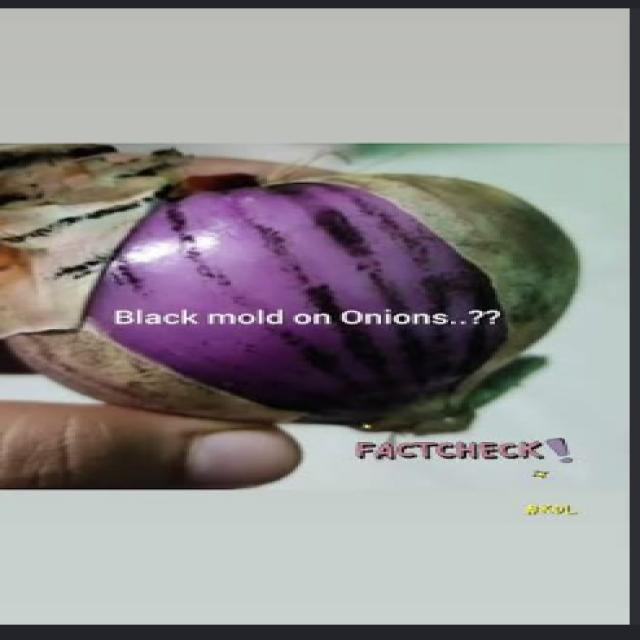mechanical_damage: (0, 145, 575, 434)
